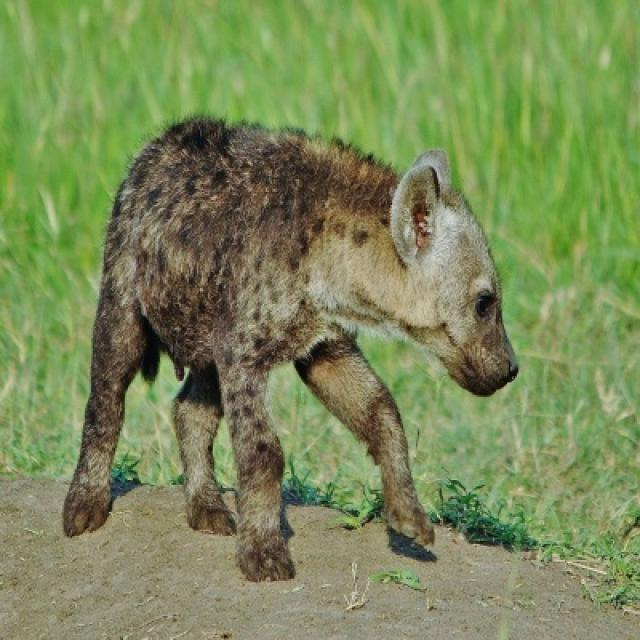hyena: (61, 118, 520, 584)
